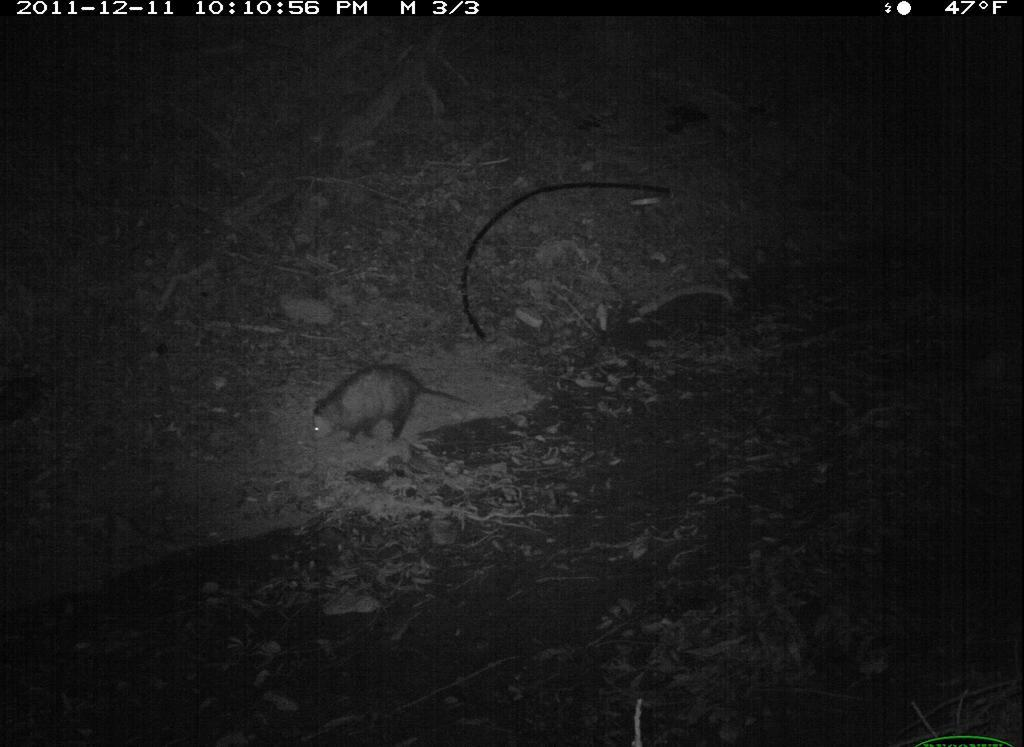opossum: (305, 360, 479, 468)
